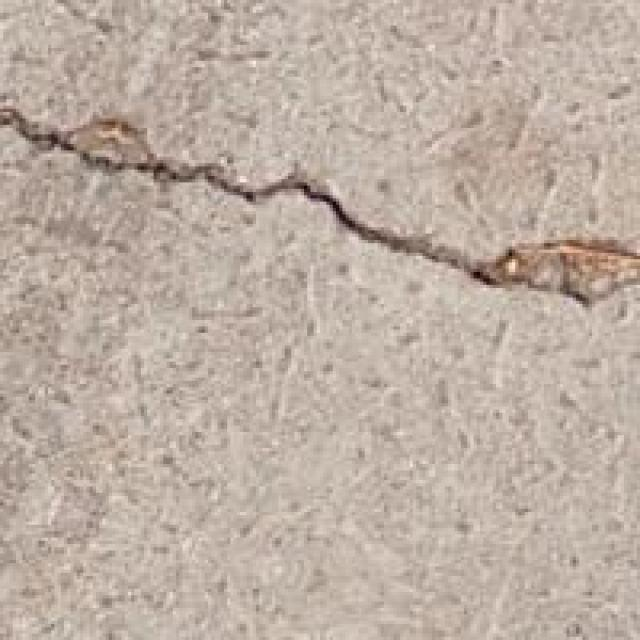crack: (6, 45, 637, 403)
